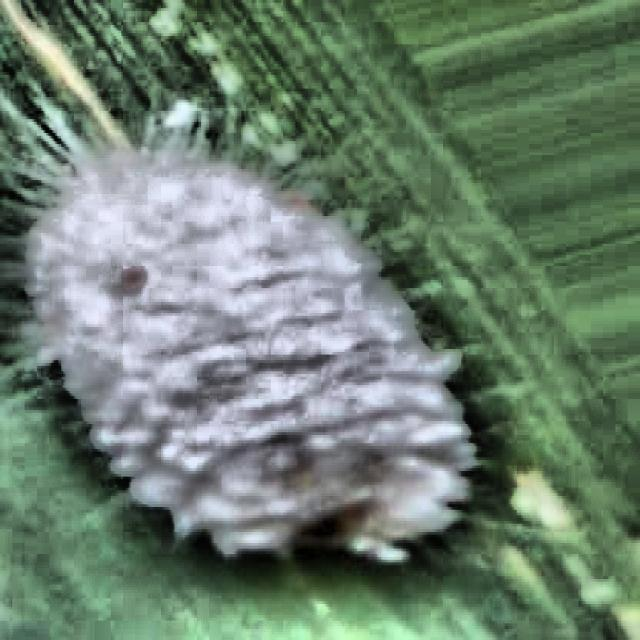Mealy-bug: (1, 56, 556, 636)
